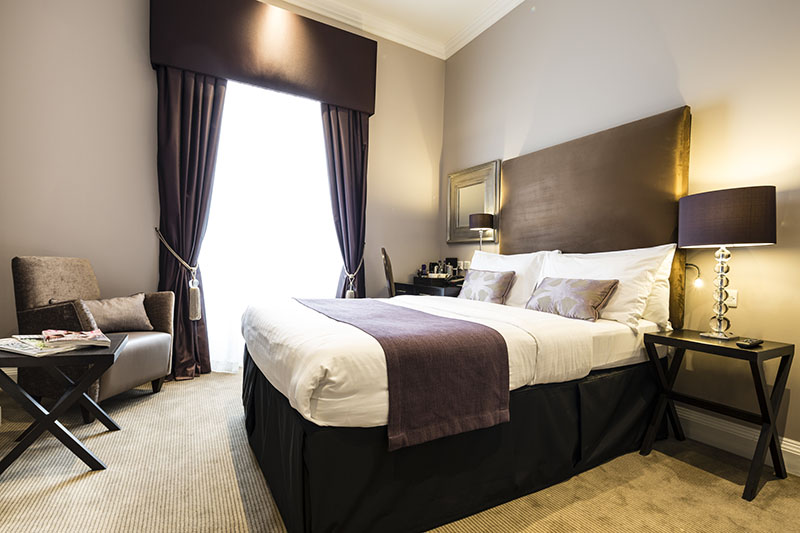chair: (12, 255, 172, 422), (380, 246, 404, 294)
